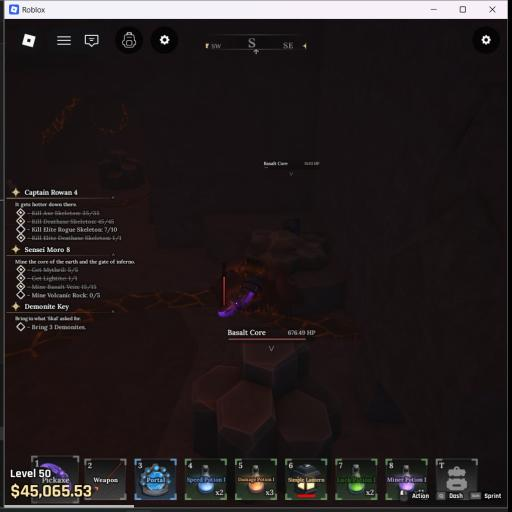player: (212, 257, 303, 317)
rock: (192, 342, 339, 457), (244, 227, 345, 315), (98, 150, 145, 190)
